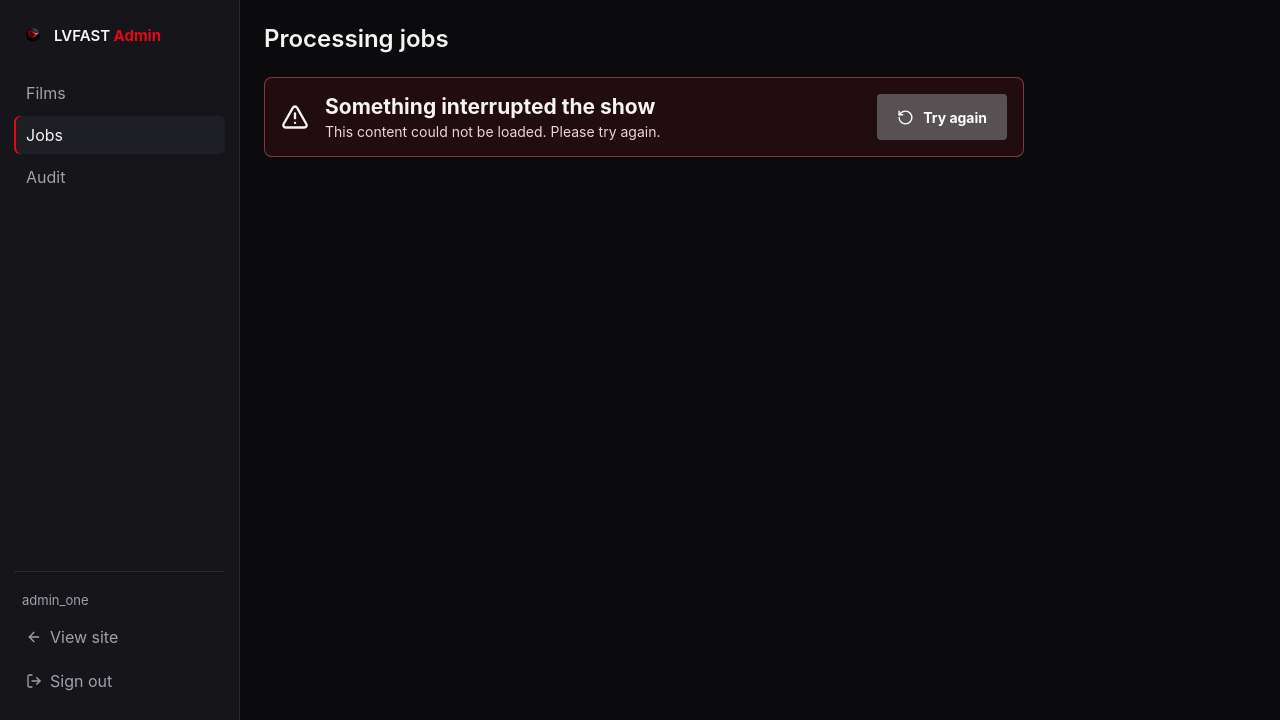
Test: job view › retries loading the job list after a list error
Step 1. Click the button "Try again" → (942, 117), box [877,94,1007,140]
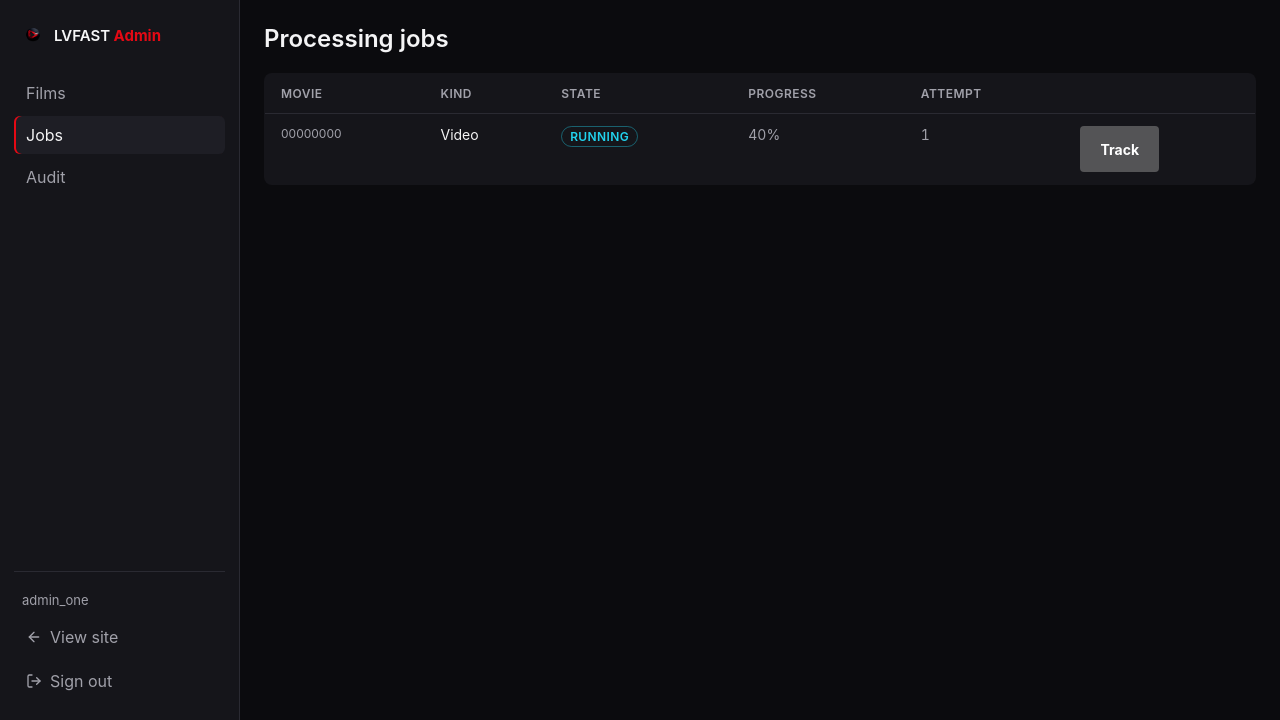
Now the text "Video" is shown, box [424,114,545,184]
